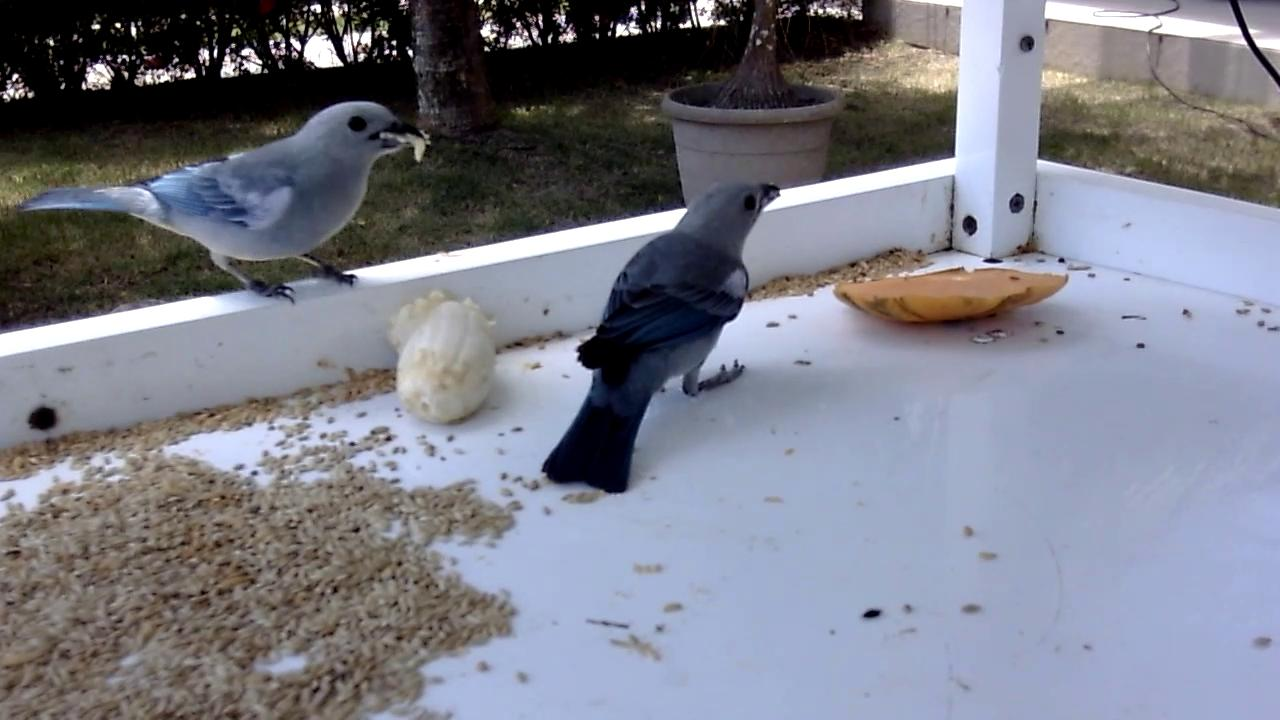sanhaco_da_amazonia: (19, 100, 428, 307), (540, 179, 783, 495)
